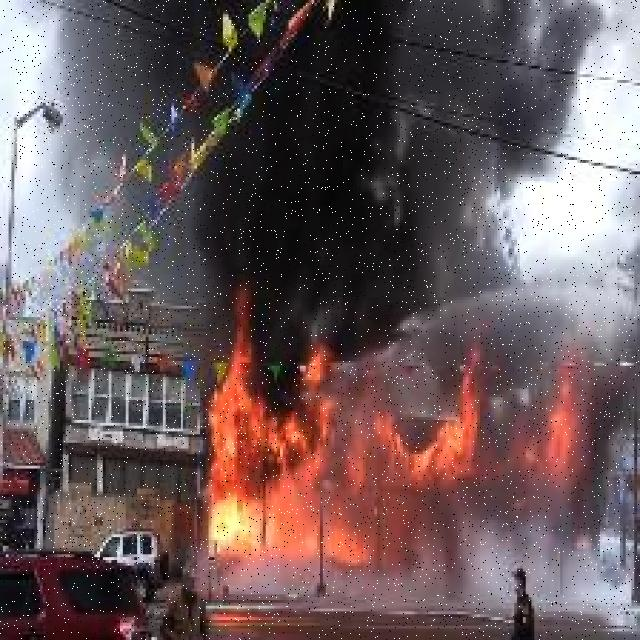fire: (204, 302, 600, 565)
smoke: (178, 15, 547, 279)
